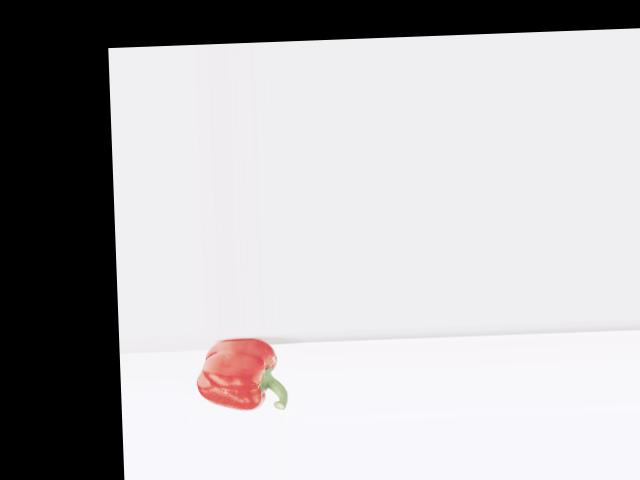bell_pepper: (190, 333, 296, 416)
